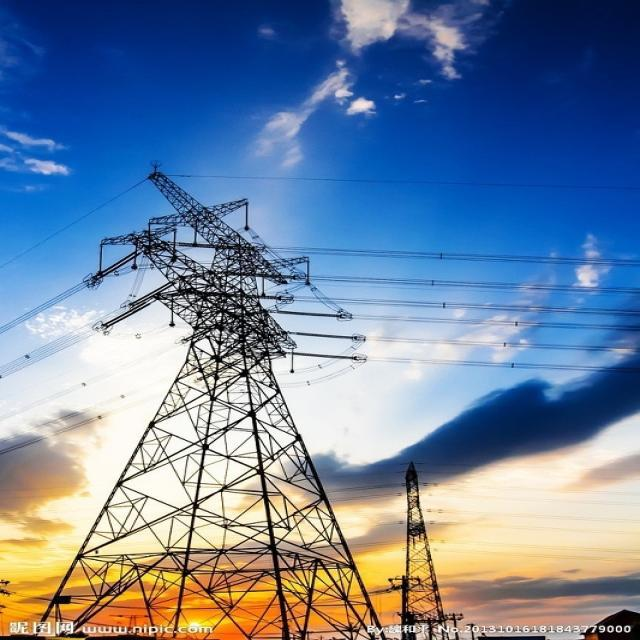non-critical vegetation: (58, 165, 360, 560), (383, 456, 459, 626)
